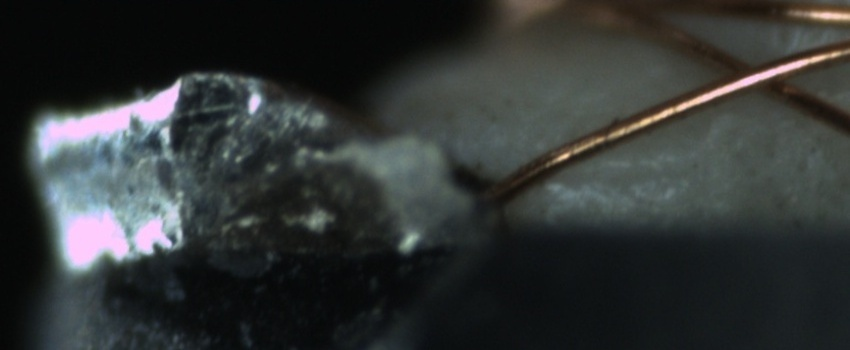CL: (693, 45, 821, 105)
DL: (567, 145, 690, 196)
